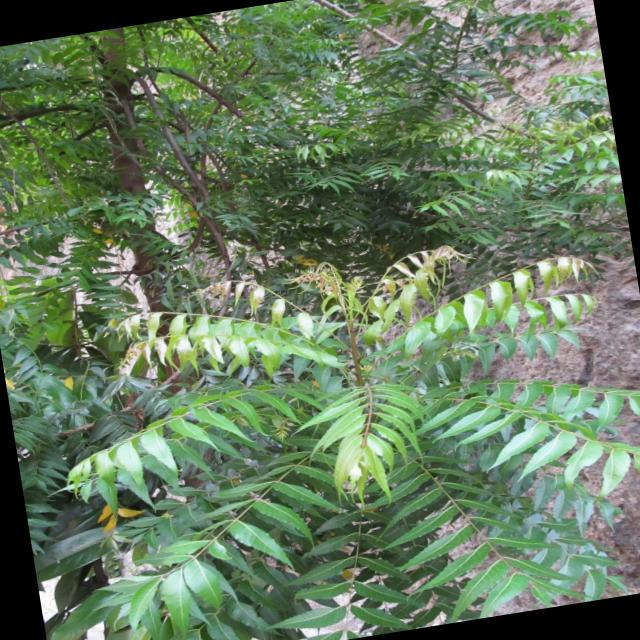Medicinal-Neem: (31, 207, 640, 640), (241, 0, 622, 288), (0, 20, 242, 344)
